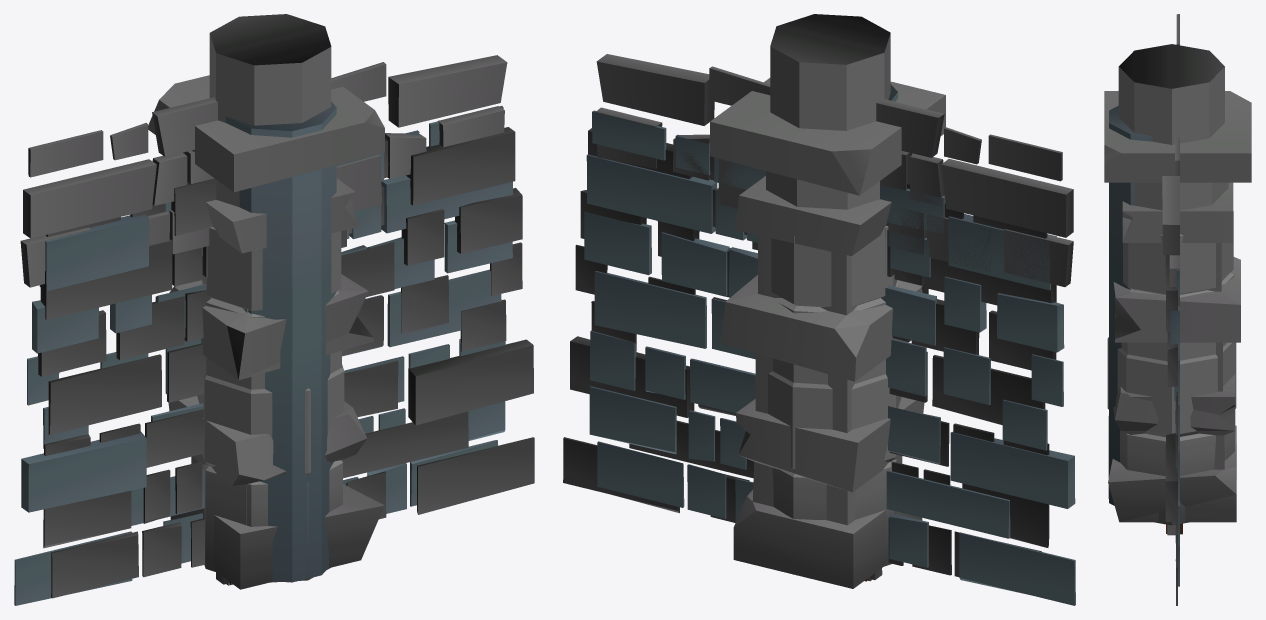
File: Stones.fbx
3 views of the same model, side by side, from view 1: azimuth 30°, elevation 25°; view 2: azimuth 150°, elevation 25°; view 3: azimuth 270°, elevation 25° (orthographic). The views are drawn at different scales.
Visible parts, largest first — view 1: Brick_stone_pattern_1, Brick_stone_pattern_2, Column_1.002, Brick_stone_small_pattern_1, Column_big, Column_2; view 2: Brick_stone_pattern_2, Column_1.002, Column_big, Brick_stone_small_pattern_1, Brick_stone_pattern_1; view 3: Column_1.002, Column_big, Column_2, Brick_stone_pattern_1, Brick_stone_small_pattern_1, Brick_stone_pattern_2.
Boxes of the visible parts, x1,y1,x2,y2 form: Brick_stone_pattern_1: [38, 127, 534, 598]; Brick_stone_pattern_2: [14, 106, 512, 605]; Column_1.002: [148, 75, 384, 589]; Brick_stone_small_pattern_1: [20, 55, 507, 287]; Column_big: [197, 14, 344, 582]; Column_2: [225, 101, 336, 582]; Brick_stone_pattern_2: [584, 110, 1075, 605]; Column_1.002: [710, 78, 945, 588]; Column_big: [766, 14, 902, 566]; Brick_stone_small_pattern_1: [595, 54, 1073, 286]; Brick_stone_pattern_1: [563, 128, 1056, 576]; Column_1.002: [1104, 91, 1251, 522]; Column_big: [1107, 44, 1236, 525]; Column_2: [1109, 105, 1152, 505]; Brick_stone_pattern_1: [1165, 255, 1177, 605]; Brick_stone_small_pattern_1: [1162, 14, 1179, 306]; Brick_stone_pattern_2: [1170, 269, 1179, 586].
Bounding box in the file's own units: 300 × 295 × 87.73.
Materials: 1 (1 with a texture image).
